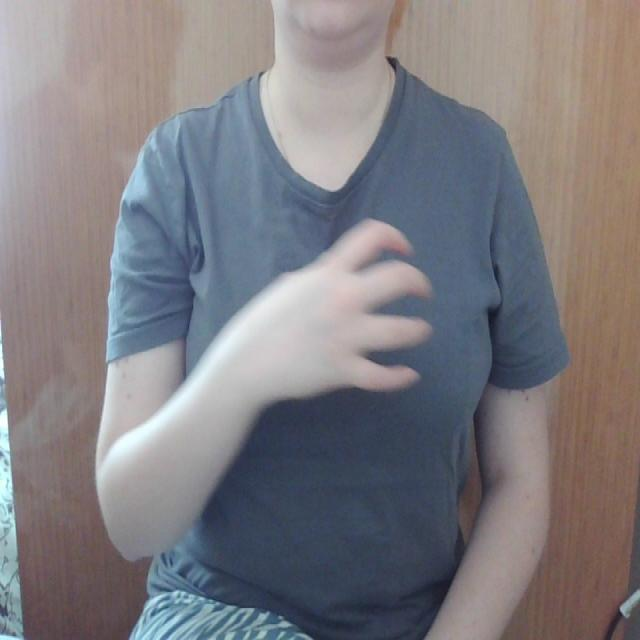Anne: (161, 215, 511, 414)
